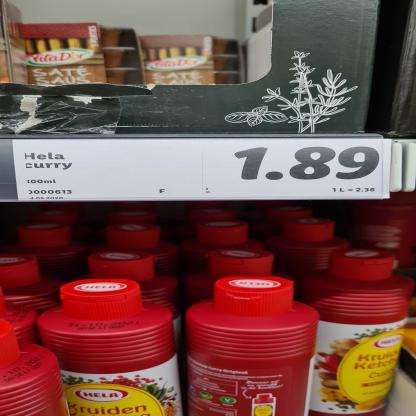prtg: (14, 140, 392, 202)
